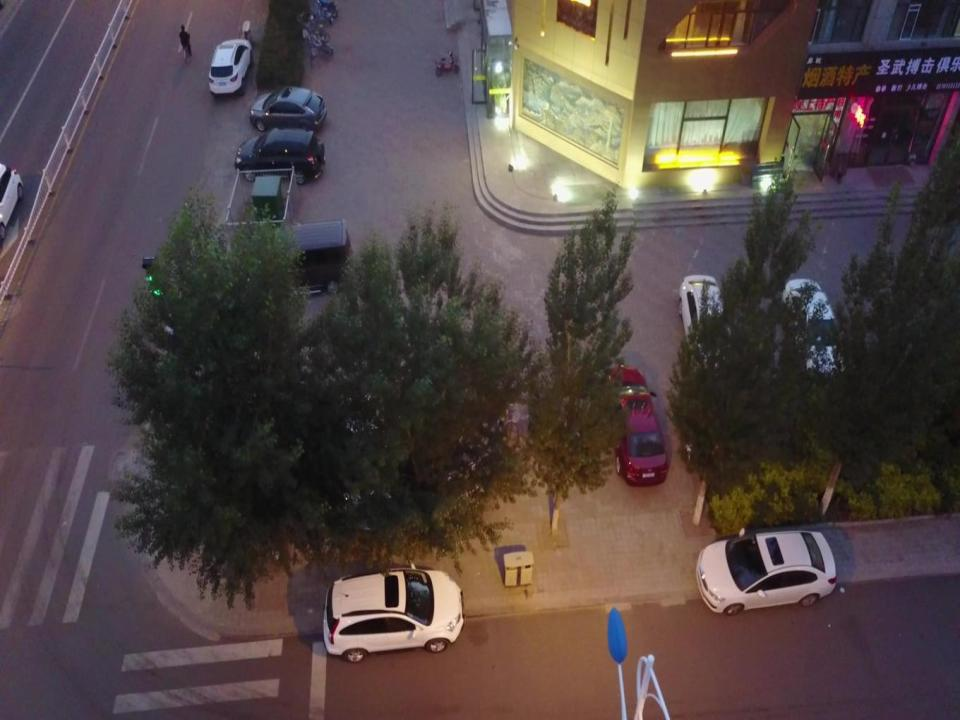car: (319, 566, 467, 662), (694, 530, 842, 612), (602, 362, 668, 488), (252, 224, 356, 291), (779, 272, 845, 376), (234, 129, 328, 183), (676, 269, 727, 367), (250, 89, 328, 126), (206, 35, 250, 97)
